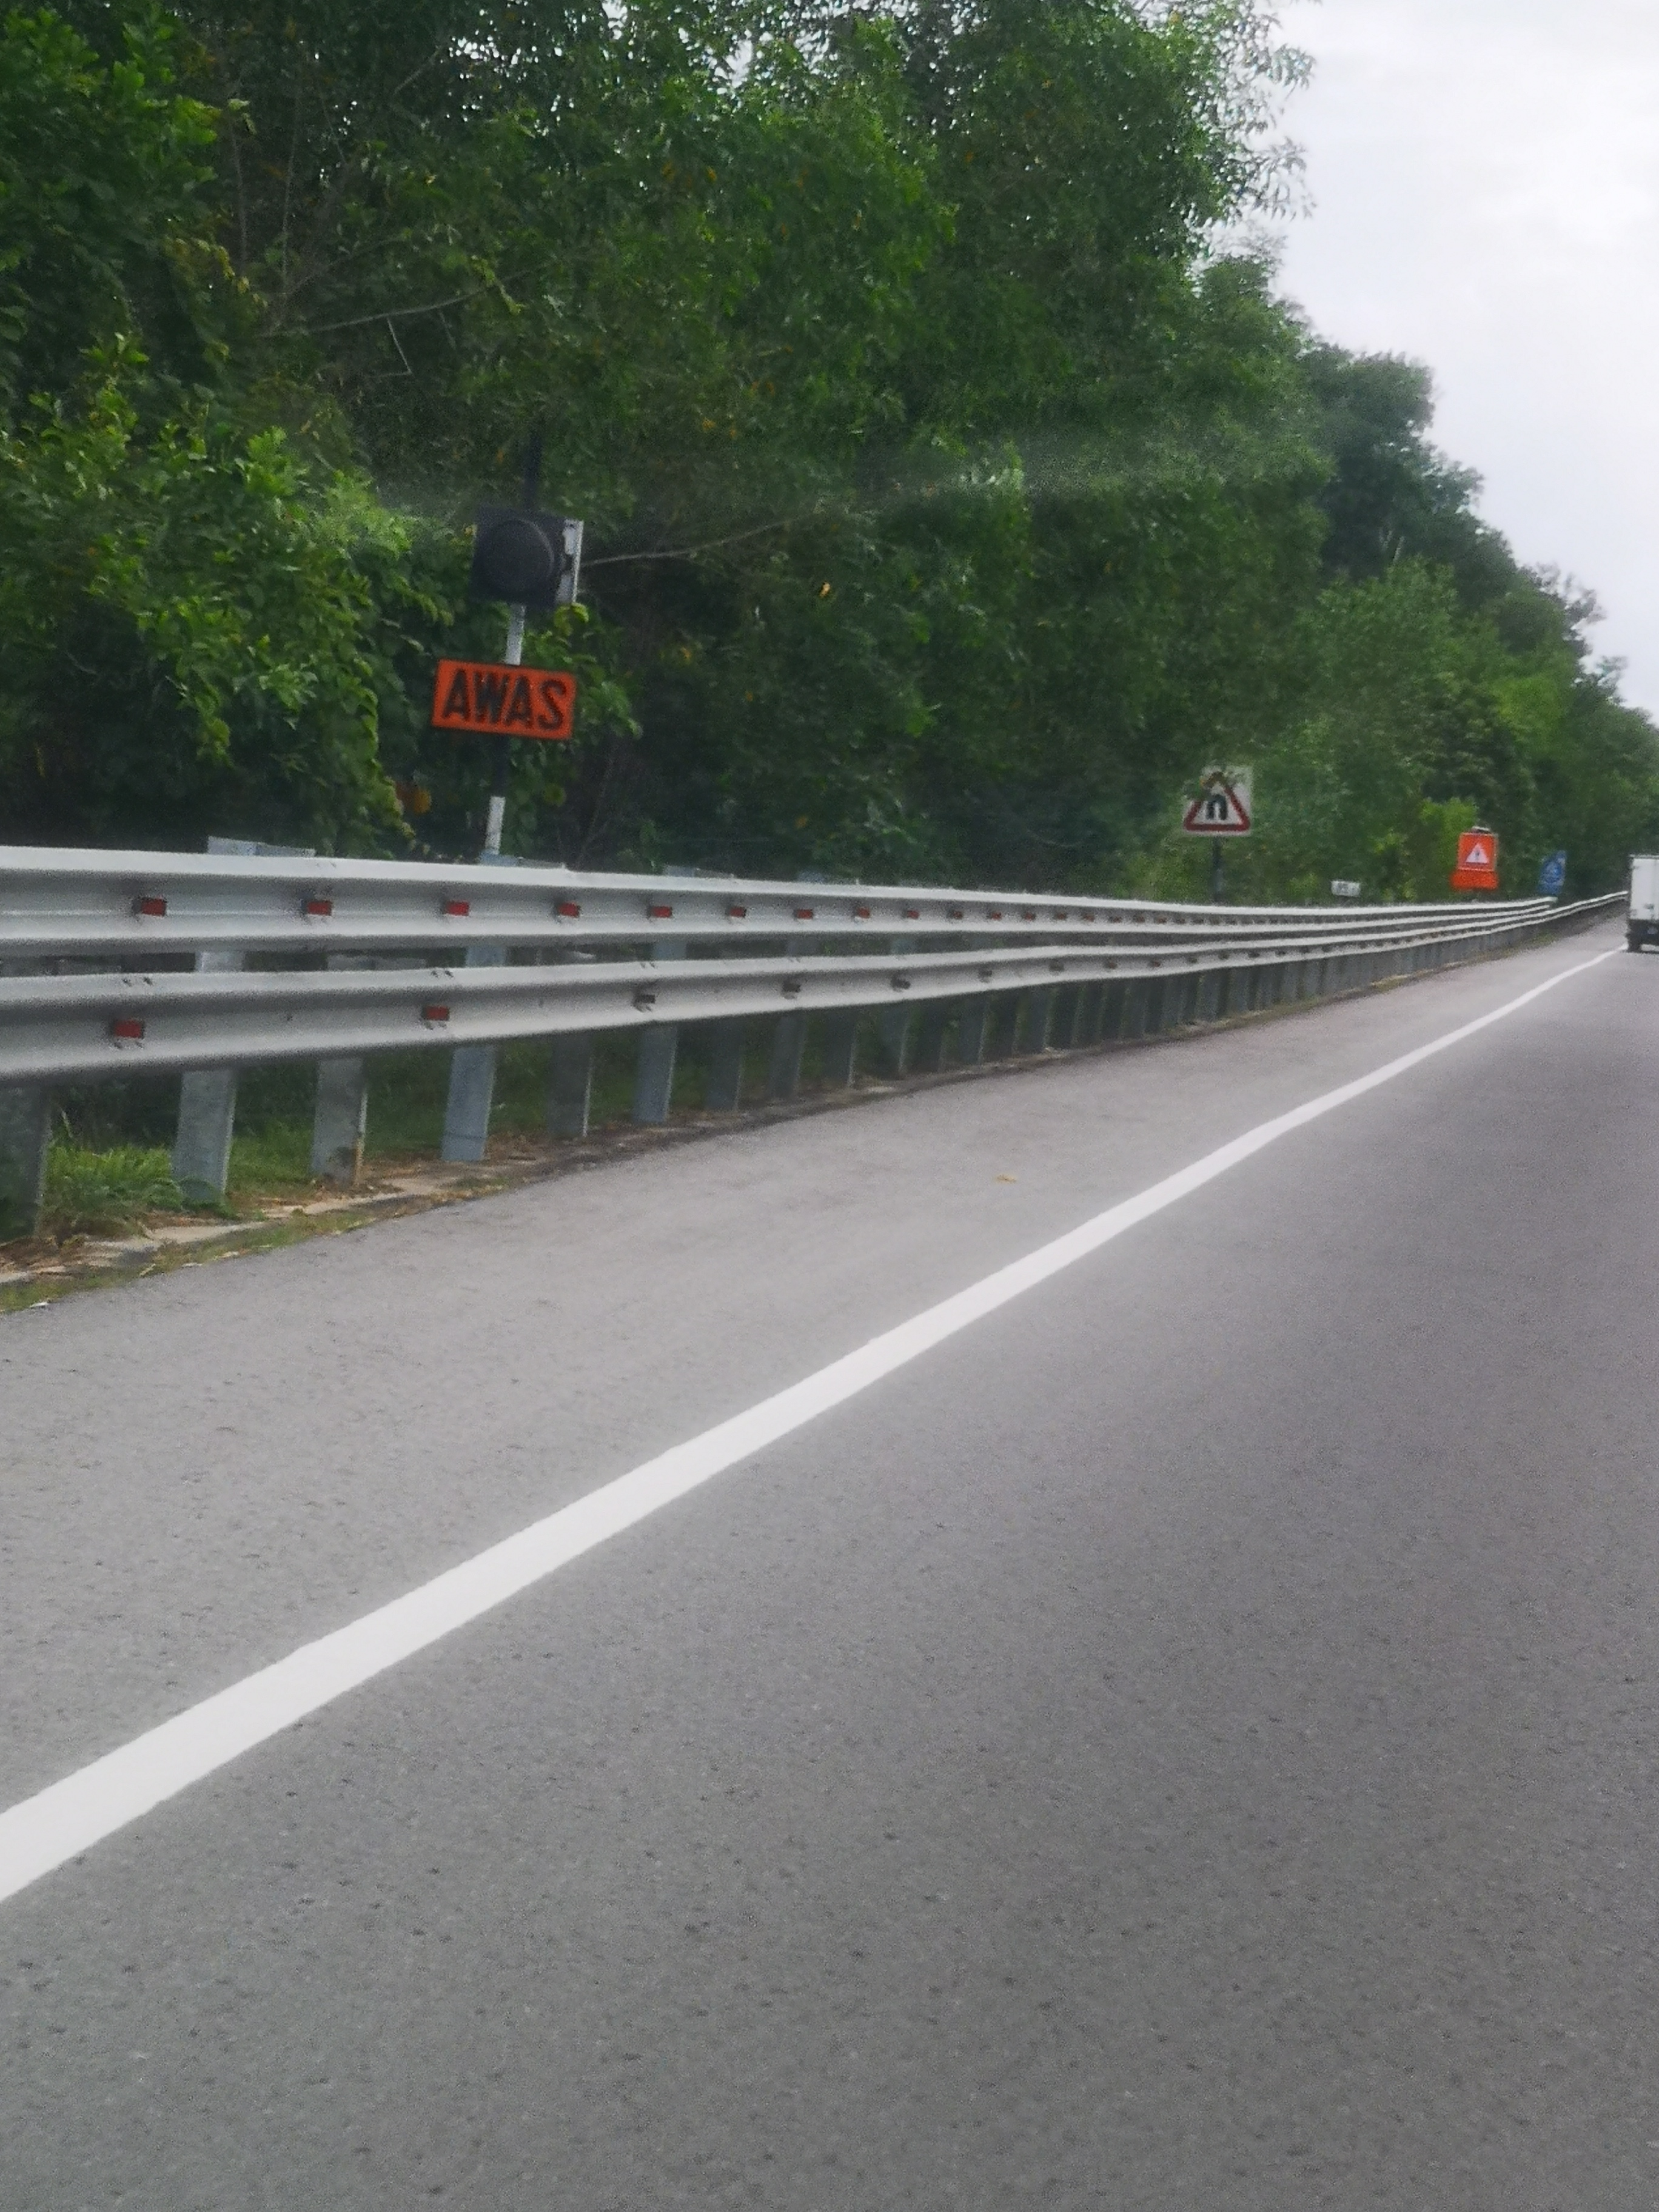U-turn: (1171, 758, 1255, 838)
